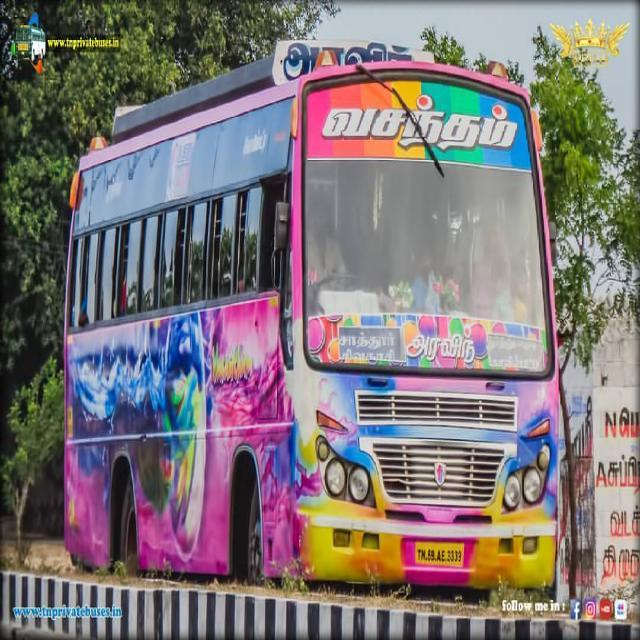Bus: (60, 40, 563, 608)
